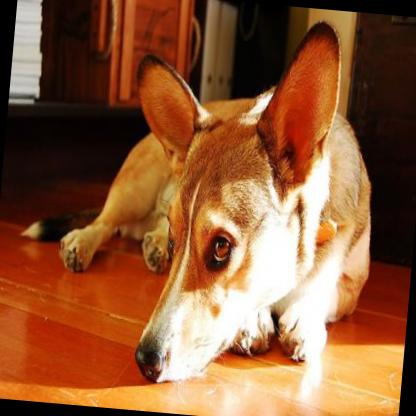Cardigan: (7, 0, 394, 402)
